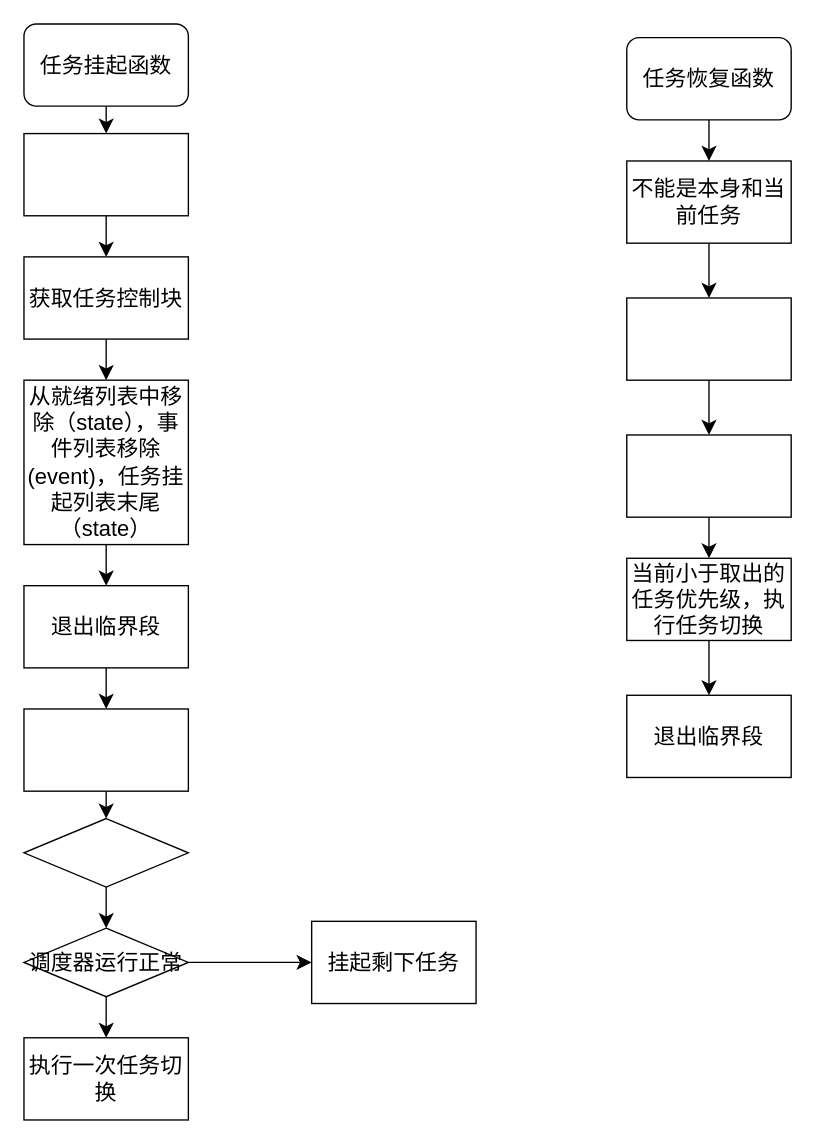
The diagram is 815 pixels wide and 1144 high, and some of its shapes have lost their labels. The centre of each missing label's shape, as x and y in pixels:
"从挂起列表移除到就绪列表" goes at (708,475).
"任务临界段" goes at (708,338).
"任务正在运行" goes at (105,852).
"判断调度器是否开启，计算时间执行下一个任务" goes at (105,749).
"进入临界段" goes at (105,174).
